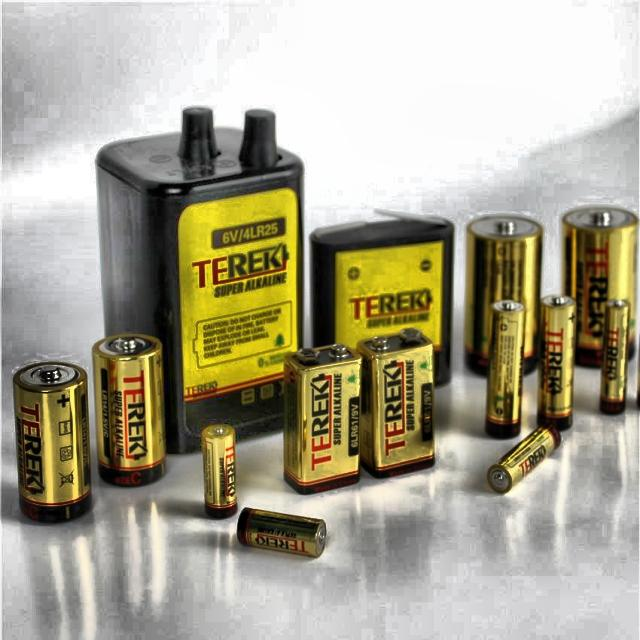Non-Valuable Waste - Batteries: (98, 107, 302, 453), (310, 216, 452, 385), (14, 363, 91, 522), (465, 216, 542, 374), (562, 207, 638, 366), (284, 344, 361, 493), (358, 329, 434, 476), (92, 336, 165, 486), (485, 300, 525, 438), (538, 295, 576, 430), (488, 425, 560, 493), (238, 508, 326, 556), (202, 425, 238, 518), (600, 299, 629, 414)
